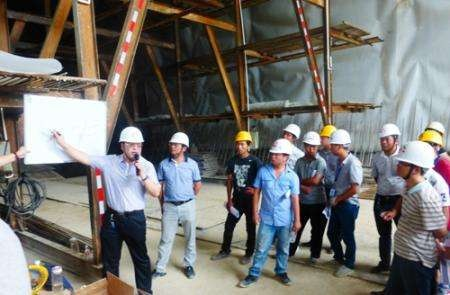white: (395, 141, 435, 182), (117, 125, 144, 161), (377, 122, 400, 155), (268, 138, 291, 167), (329, 129, 351, 159), (167, 130, 190, 158), (301, 131, 320, 156), (282, 123, 301, 143)
yellow: (233, 130, 252, 156), (318, 125, 333, 149)
